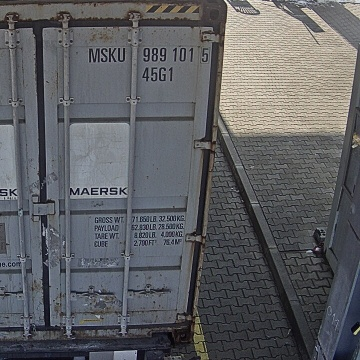serial_id: (89, 48, 209, 62)
